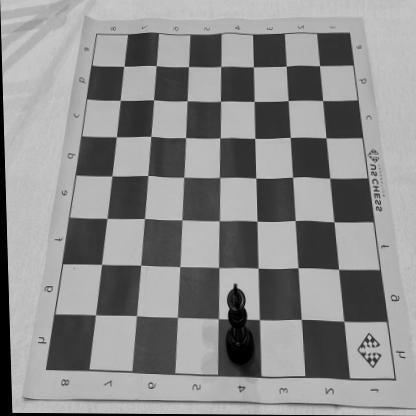black-king: (222, 282, 253, 366)
